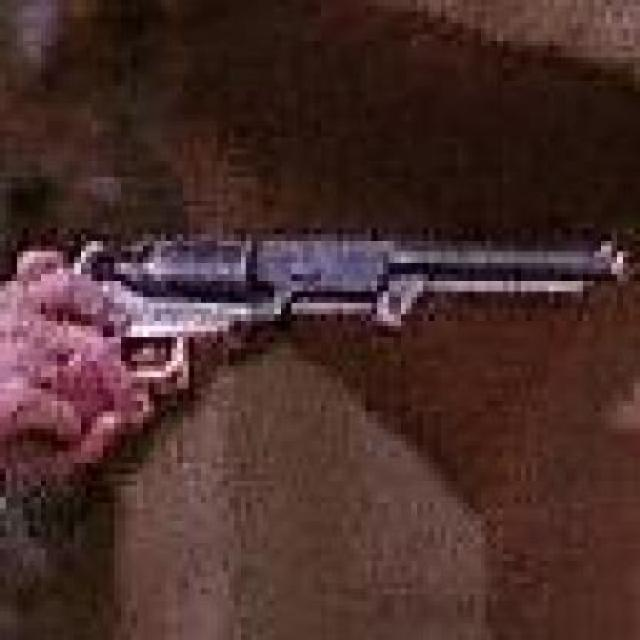rifle: (12, 223, 638, 406)
